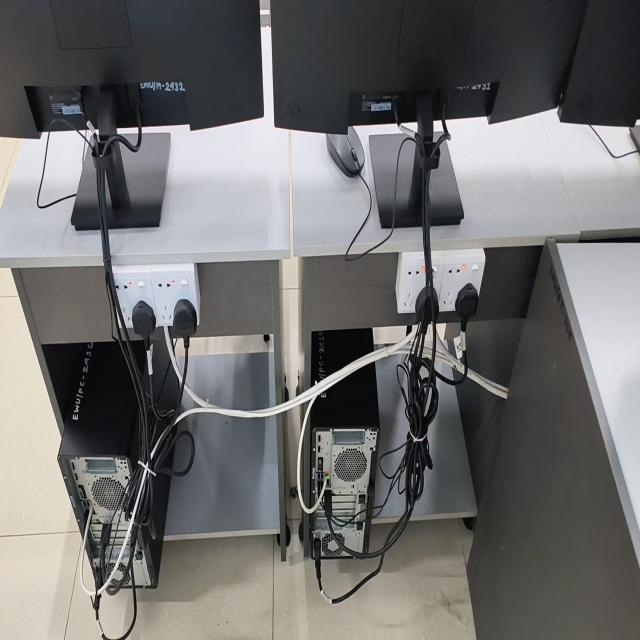Cpu: (59, 343, 138, 585), (310, 363, 379, 549), (134, 471, 170, 588), (311, 329, 373, 383), (310, 509, 345, 558), (153, 348, 179, 409)
Monitor: (271, 0, 640, 132), (0, 0, 264, 137)
Mouse: (326, 127, 365, 176)
